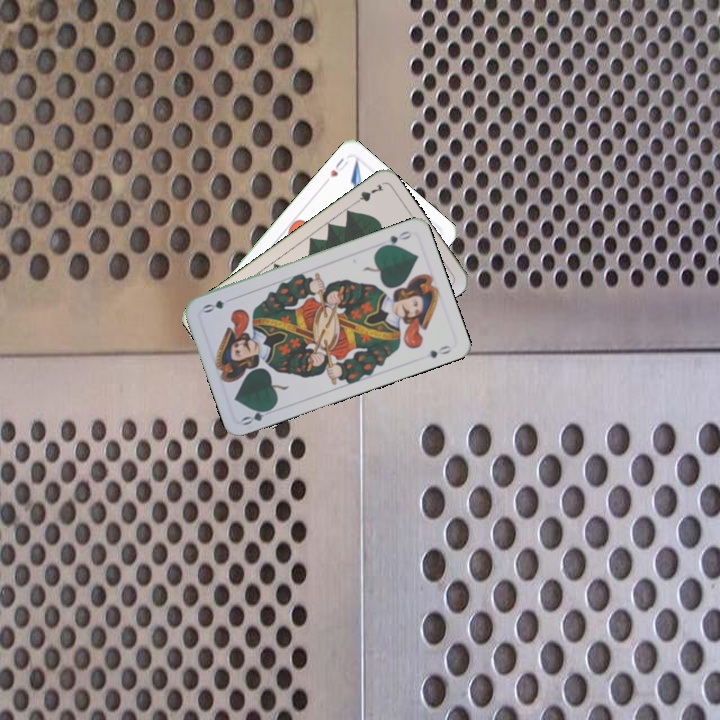G7: (348, 180, 386, 208)
GO: (238, 403, 278, 428), (376, 227, 415, 251)
HU: (326, 154, 351, 180)
